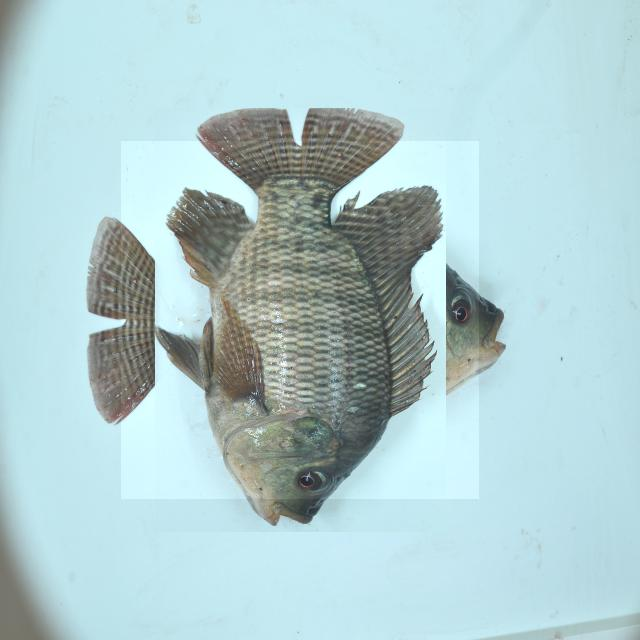Healthy Fish: (121, 141, 479, 499)
